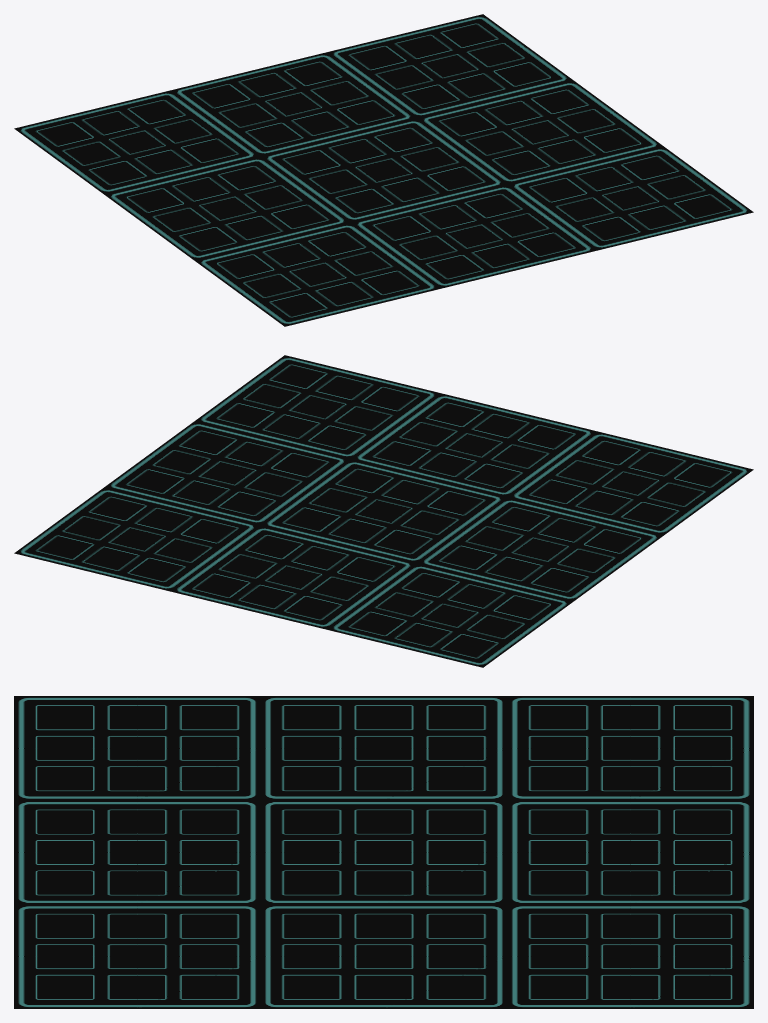
File: tron_grid_floor.glb
3 renders of one model, top to bottom at view 1: azimuth 30°, elevation 25°; view 2: azimuth 150°, elevation 25°; view 3: azimuth 270°, elevation 25°, orthographic. The views are drawn at different scales.
Parts seen in each view (by area): view 1: ref_tron_gridfloor.smd; view 2: ref_tron_gridfloor.smd; view 3: ref_tron_gridfloor.smd.
Boxes of the visible parts, left/top/right/bottom form: ref_tron_gridfloor.smd: left=14, top=14, right=753, bottom=326; ref_tron_gridfloor.smd: left=14, top=355, right=753, bottom=667; ref_tron_gridfloor.smd: left=14, top=696, right=753, bottom=1008.
Size of the model in its own units: 58.81 by 9.58e-06 by 58.81.
Materials: 1 (1 with a texture image).
